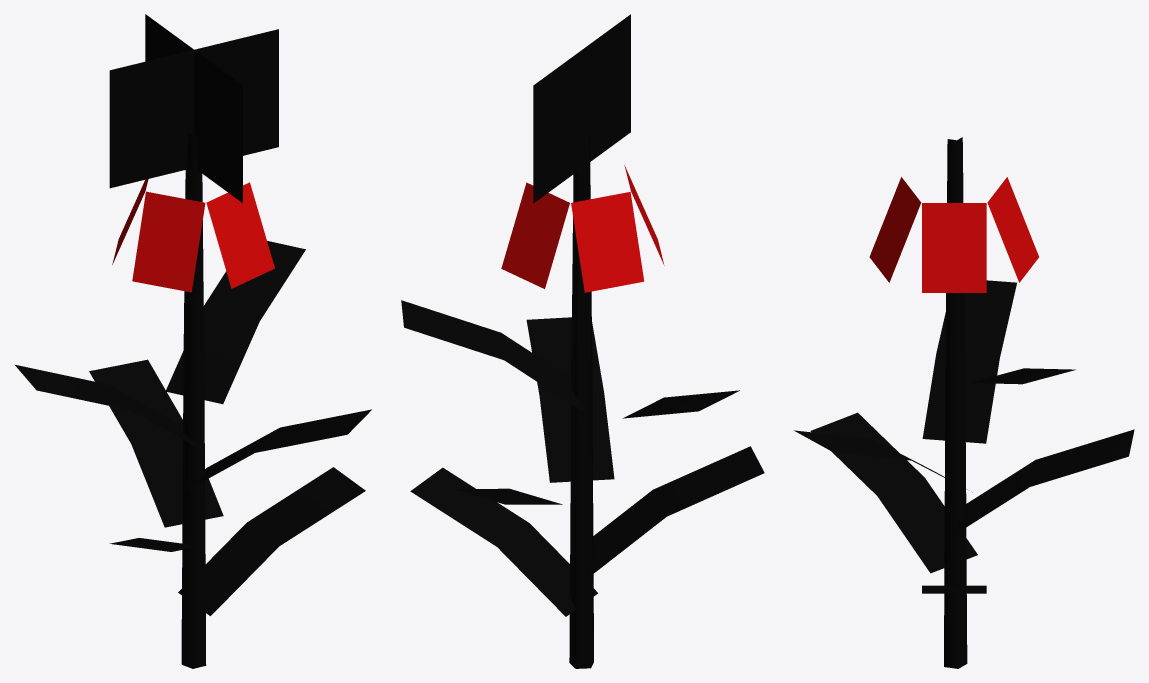
File: flower_crown.glb
3 views of the same model, side by side, from view 1: azimuth 30°, elevation 25°; view 2: azimuth 150°, elevation 25°; view 3: azimuth 270°, elevation 25° (orthographic).
Visible parts, largest first — view 1: lod0; view 2: lod0; view 3: lod0.
Part boxes in pixels (x1,y1,x2,y2): lod0: (15, 14, 371, 668); lod0: (401, 14, 764, 668); lod0: (794, 137, 1134, 668).
Size of what is drawn, in the model's own units: 0.556 by 1.04 by 0.5284.
